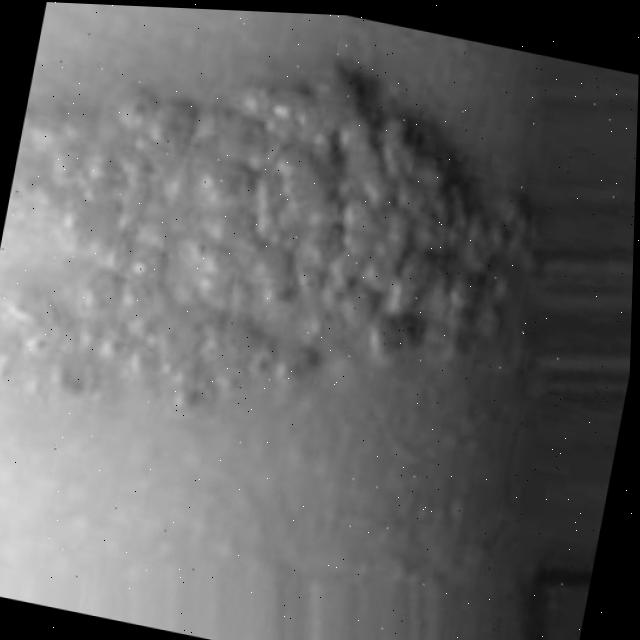Shingles: (0, 2, 557, 485)
